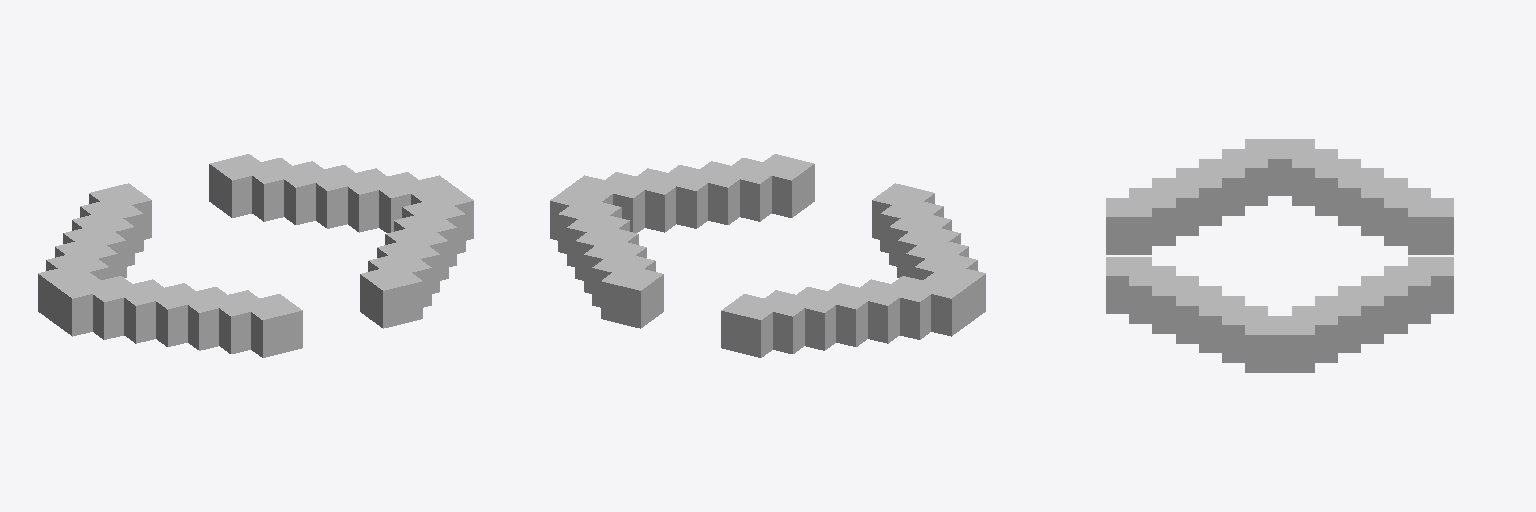
The model's file is angle.obj.
The picture shows the model from 3 angles: view 1: azimuth 30°, elevation 25°; view 2: azimuth 150°, elevation 25°; view 3: azimuth 270°, elevation 25°; orthographic projection.
Parts seen in each view (by area): view 1: Text; view 2: Text; view 3: Text.
Part boxes in pixels (left/top/right/bottom): Text: left=38, top=154, right=473, bottom=357; Text: left=550, top=154, right=985, bottom=357; Text: left=1106, top=139, right=1453, bottom=372.
Size of the model in its own units: 1.11 by 0.1 by 0.8333.